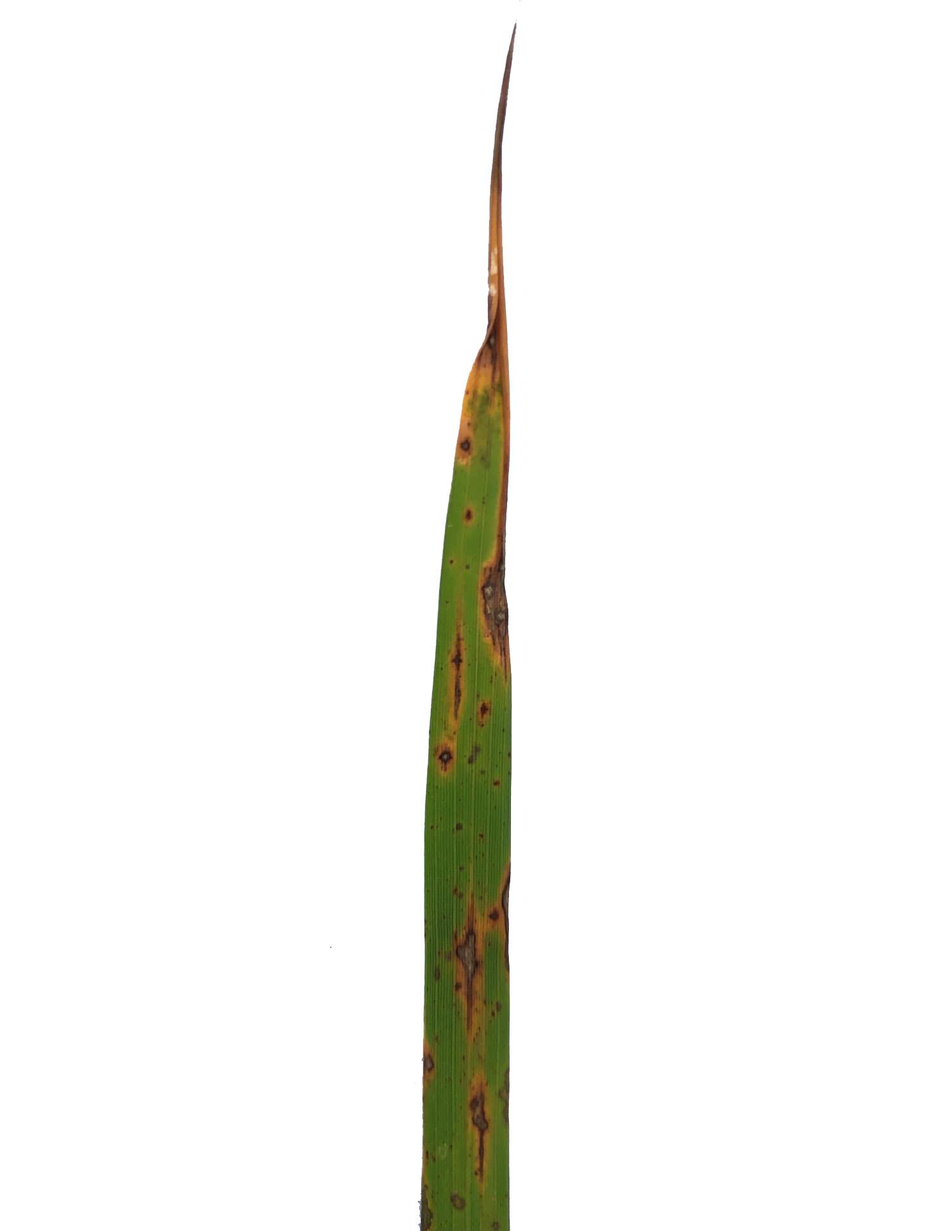Rice blast: (477, 497, 516, 673), (463, 287, 514, 403), (450, 898, 486, 1040), (467, 1072, 496, 1200), (448, 629, 469, 727), (496, 854, 511, 981), (433, 739, 460, 775), (459, 430, 470, 462)
